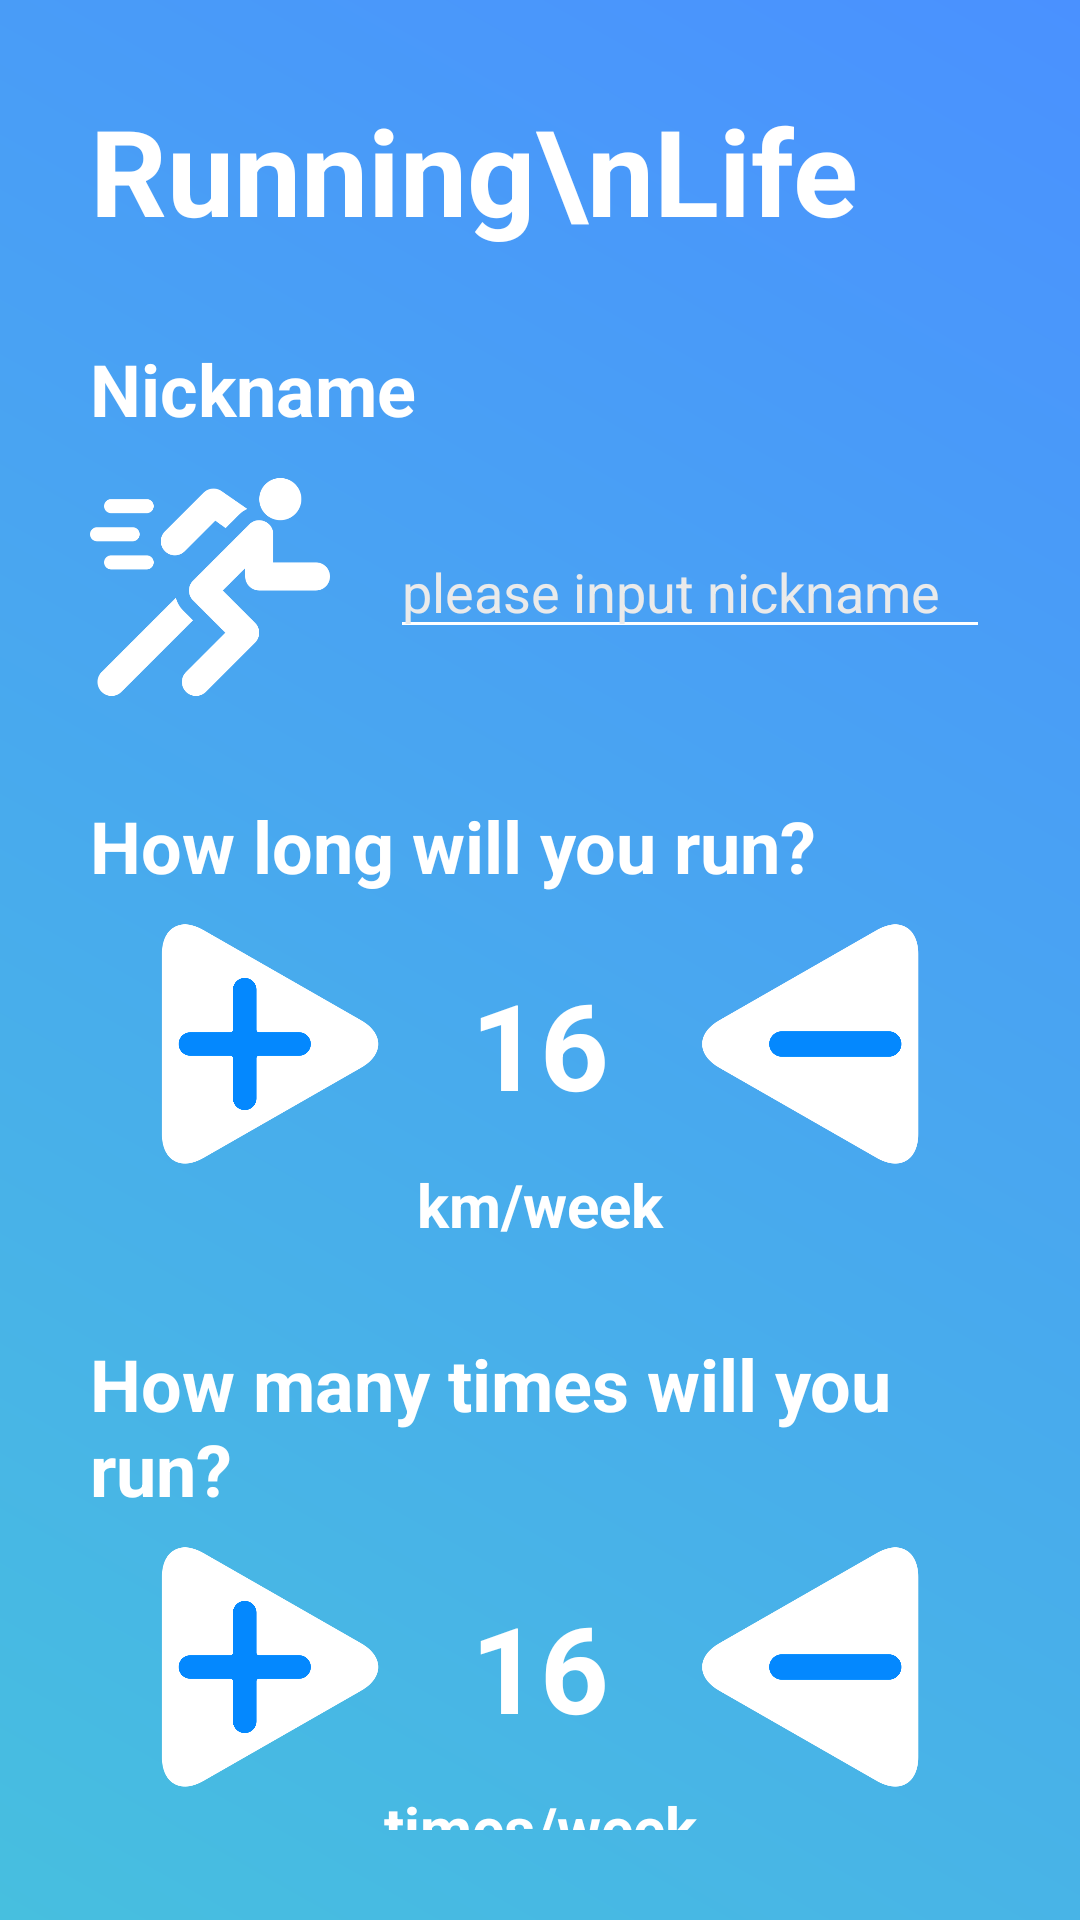

Point at icon controls on the screen. Image size 1080*1920, points as (x,y).
arrow minus: (810,1044), (810,1667)
arrow plus: (270,1044), (270,1667)
running: (210,587)
